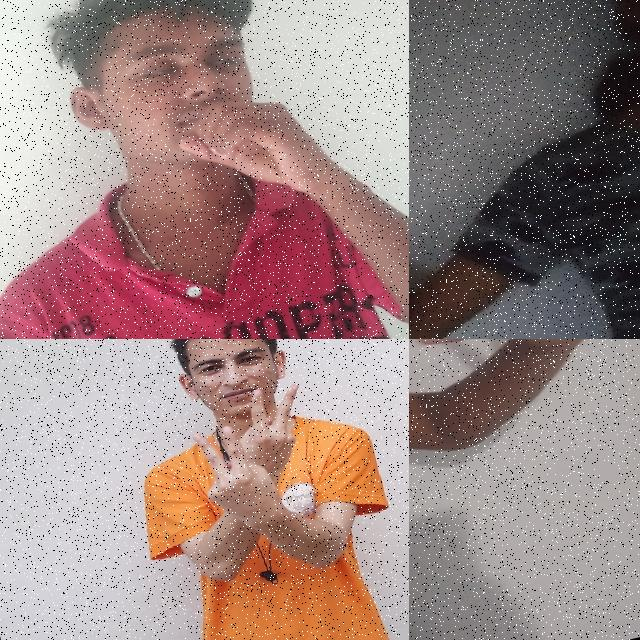Fist Mouth: (26, 0, 349, 256)
Moutza: (409, 339, 640, 405)
Reversed Victory: (175, 406, 288, 544), (217, 360, 321, 480)
